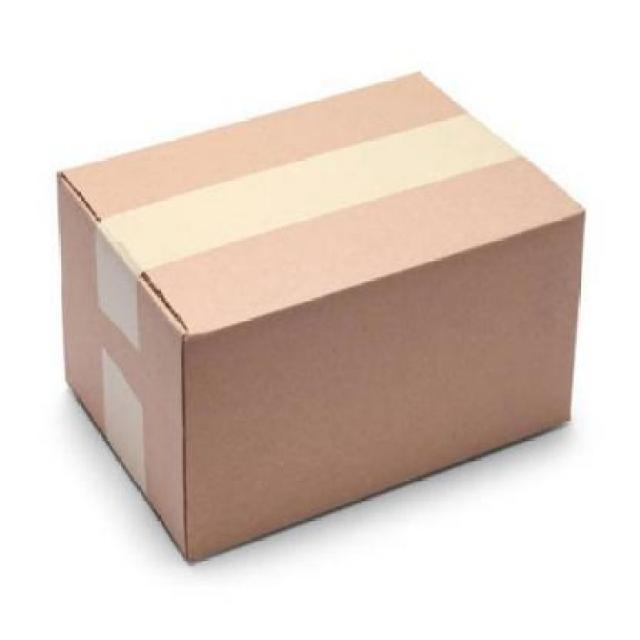box: (59, 62, 581, 574)
